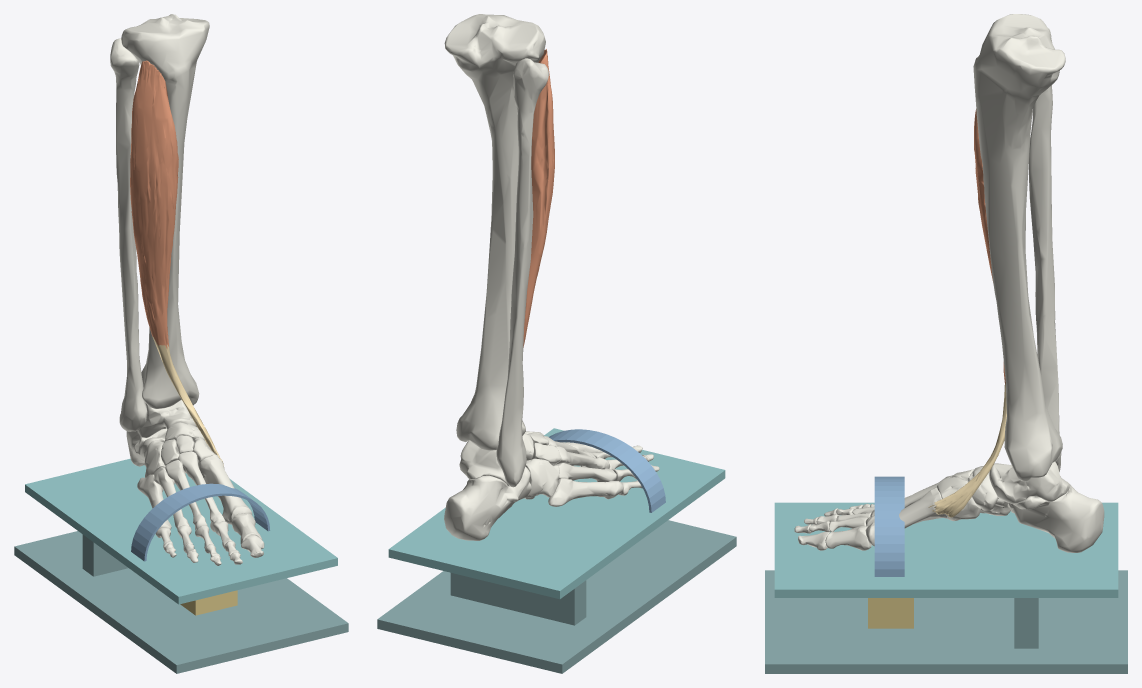
File: neutral-pedal.glb
3 renders of one model, left to right at view 1: azimuth 30°, elevation 25°; view 2: azimuth 150°, elevation 25°; view 3: azimuth 270°, elevation 25°, orthographic. The views are drawn at different scales.
Parts seen in each view (by area): view 1: Base frame, Fixed neutral pedal, Tibialis anterior muscle.r (belly), Tibia.r (bone), Fibula.r (bone), Forefoot strap (schematic), First metatarsal bone.r (bone), Talus.r (bone), Illustrative pivot support, Tibialis anterior muscle.r (tendon), Second metatarsal bone.r (bone), Load cell under pedal (+6 smaller); view 2: Fixed neutral pedal, Base frame, Tibia.r (bone), Fibula.r (bone), Tibialis anterior muscle.r (belly), Calcaneus.r (bone), Illustrative pivot support, Forefoot strap (schematic), Fifth metatarsal bone.r (bone), Talus.r (bone), Cuboid bone.r (bone), Fourth metatarsal bone.r (bone) (+1 smaller); view 3: Base frame, Fixed neutral pedal, Tibia.r (bone), Fibula.r (bone), Calcaneus.r (bone), Forefoot strap (schematic), Talus.r (bone), Tibialis anterior muscle.r (tendon), Load cell under pedal, Illustrative pivot support, First metatarsal bone.r (bone), Tibialis anterior muscle.r (belly) (+3 smaller).
Part boxes in pixels (box(x1,y1,x2,y2)): Base frame: box(14, 531, 348, 673); Fixed neutral pedal: box(25, 458, 337, 604); Tibialis anterior muscle.r (belly): box(130, 60, 178, 349); Tibia.r (bone): box(121, 14, 209, 408); Fibula.r (bone): box(110, 38, 147, 431); Forefoot strap (schematic): box(131, 483, 270, 561); First metatarsal bone.r (bone): box(198, 454, 252, 524); Talus.r (bone): box(137, 400, 196, 437); Illustrative pivot support: box(82, 534, 128, 576); Tibialis anterior muscle.r (tendon): box(152, 337, 223, 465); Second metatarsal bone.r (bone): box(178, 451, 225, 532); Load cell under pedal: box(180, 590, 237, 615); Fixed neutral pedal: box(388, 428, 725, 599); Base frame: box(377, 520, 736, 673); Tibia.r (bone): box(444, 14, 545, 450); Fibula.r (bone): box(496, 58, 548, 487); Tibialis anterior muscle.r (belly): box(523, 49, 554, 347); Calcaneus.r (bone): box(444, 466, 531, 540); Illustrative pivot support: box(450, 573, 586, 625); Forefoot strap (schematic): box(549, 429, 665, 512); Fifth metatarsal bone.r (bone): box(548, 478, 623, 506); Talus.r (bone): box(459, 440, 508, 485); Cuboid bone.r (bone): box(524, 458, 559, 499); Fourth metatarsal bone.r (bone): box(554, 463, 616, 482); Base frame: box(765, 570, 1127, 673); Fixed neutral pedal: box(774, 502, 1118, 597); Tibia.r (bone): box(973, 14, 1065, 481); Fibula.r (bone): box(1029, 28, 1061, 471); Calcaneus.r (bone): box(1008, 481, 1104, 552); Forefoot strap (schematic): box(874, 476, 904, 576); Talus.r (bone): box(990, 461, 1069, 504); Tibialis anterior muscle.r (tendon): box(928, 383, 1006, 517); Load cell under pedal: box(868, 598, 913, 628); Illustrative pivot support: box(1014, 598, 1038, 648); First metatarsal bone.r (bone): box(866, 487, 947, 546); Tibialis anterior muscle.r (belly): box(974, 109, 1005, 383).
Size of the model in its own units: 0.164 by 0.4962 by 0.268.
